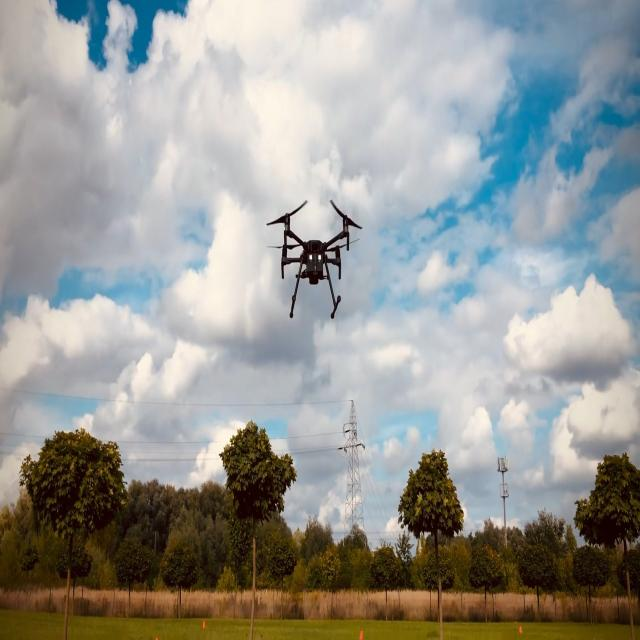drone: (266, 198, 362, 319)
